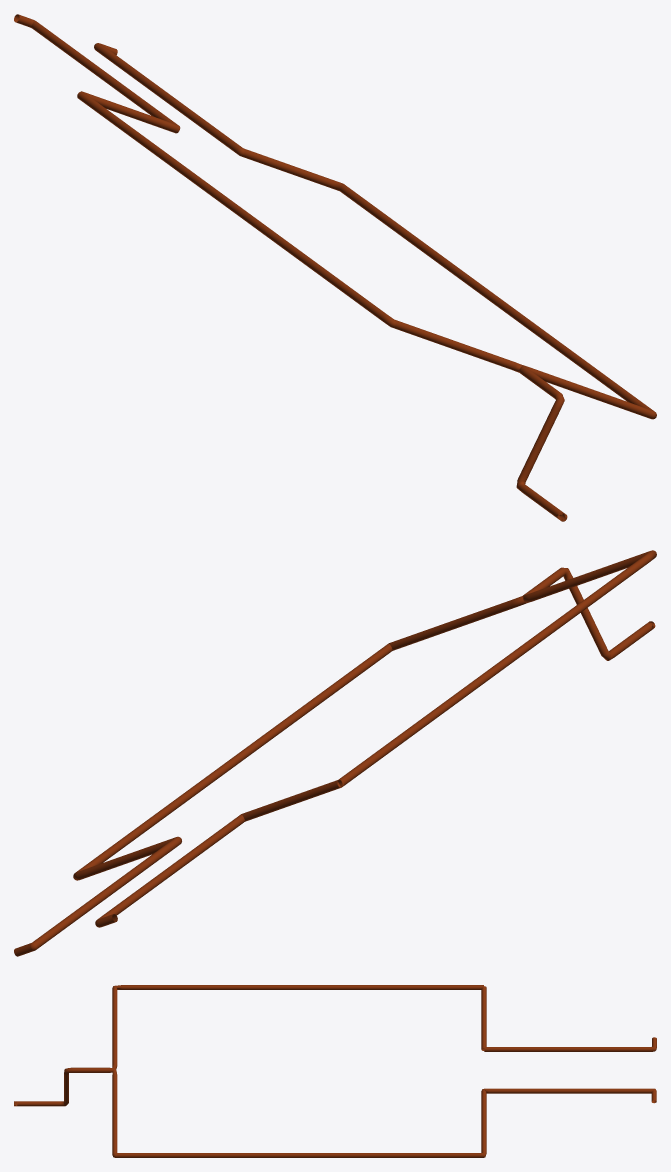
Rendered from Copperwire.fbx.
3 views of the same model, one above another, from view 1: azimuth 30°, elevation 25°; view 2: azimuth 150°, elevation 25°; view 3: azimuth 270°, elevation 25° (orthographic). The views are drawn at different scales.
Visible parts, largest first — view 1: copper wires; view 2: copper wires; view 3: copper wires.
Part boxes in pixels (x1,y1,x2,y2): copper wires: (14, 14, 656, 521); copper wires: (14, 550, 656, 956); copper wires: (14, 985, 656, 1157).
Size of the model in its own units: 18.95 by 11.04 by 66.32.
